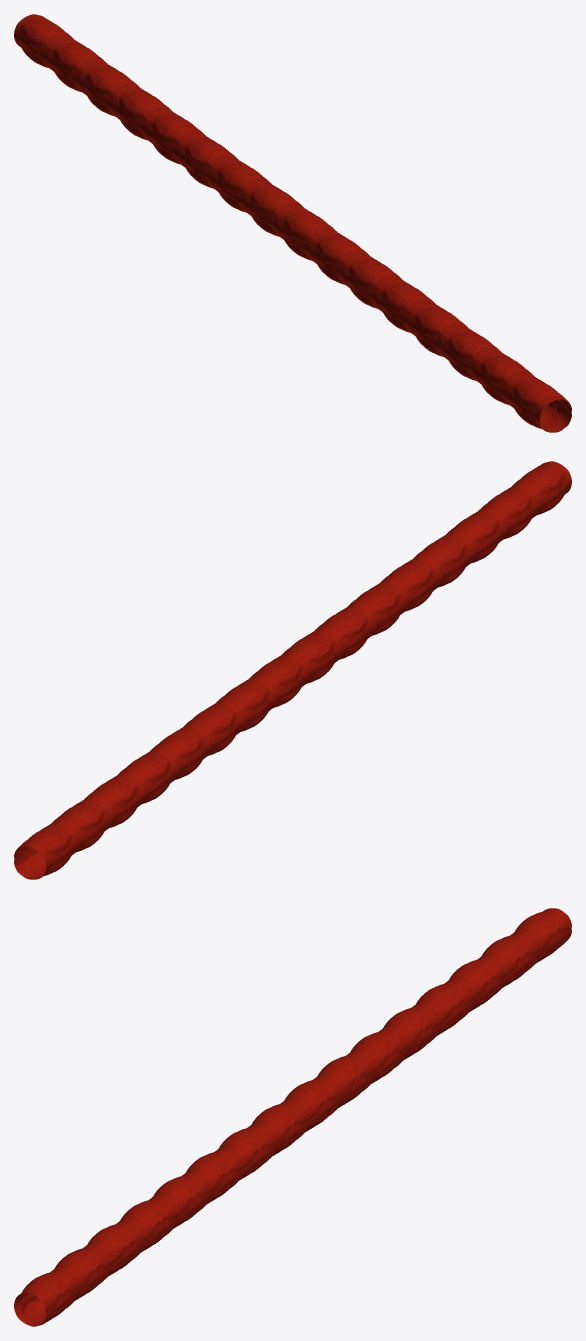
The model's file is blood_vessels_Covered.fbx.
The picture shows the model from 3 angles, top to bottom: view 1: azimuth 30°, elevation 25°; view 2: azimuth 150°, elevation 25°; view 3: azimuth 330°, elevation 25°; orthographic projection.
Visible parts, largest first — view 1: blood_vessels_Covered; view 2: blood_vessels_Covered; view 3: blood_vessels_Covered.
Boxes of the visible parts, x1,y1,x2,y2 form: blood_vessels_Covered: [14, 14, 571, 432]; blood_vessels_Covered: [14, 461, 571, 879]; blood_vessels_Covered: [14, 908, 571, 1326].
Size of the model in its own units: 376 by 366 by 9554.
